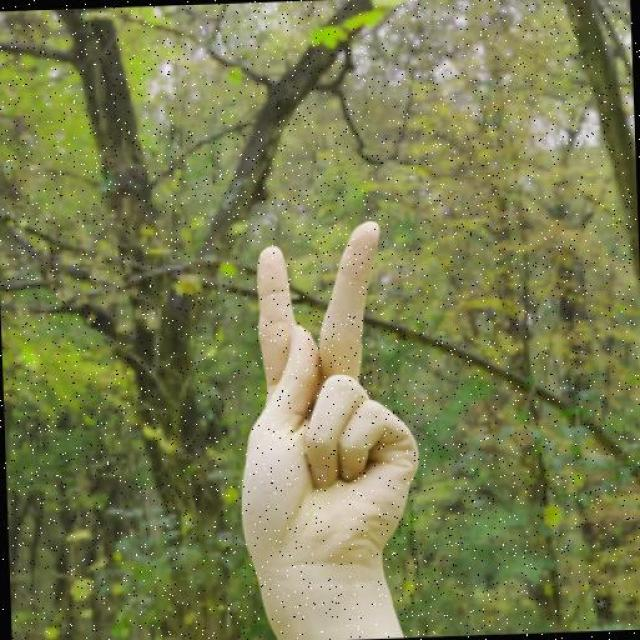K: (202, 195, 444, 640)
